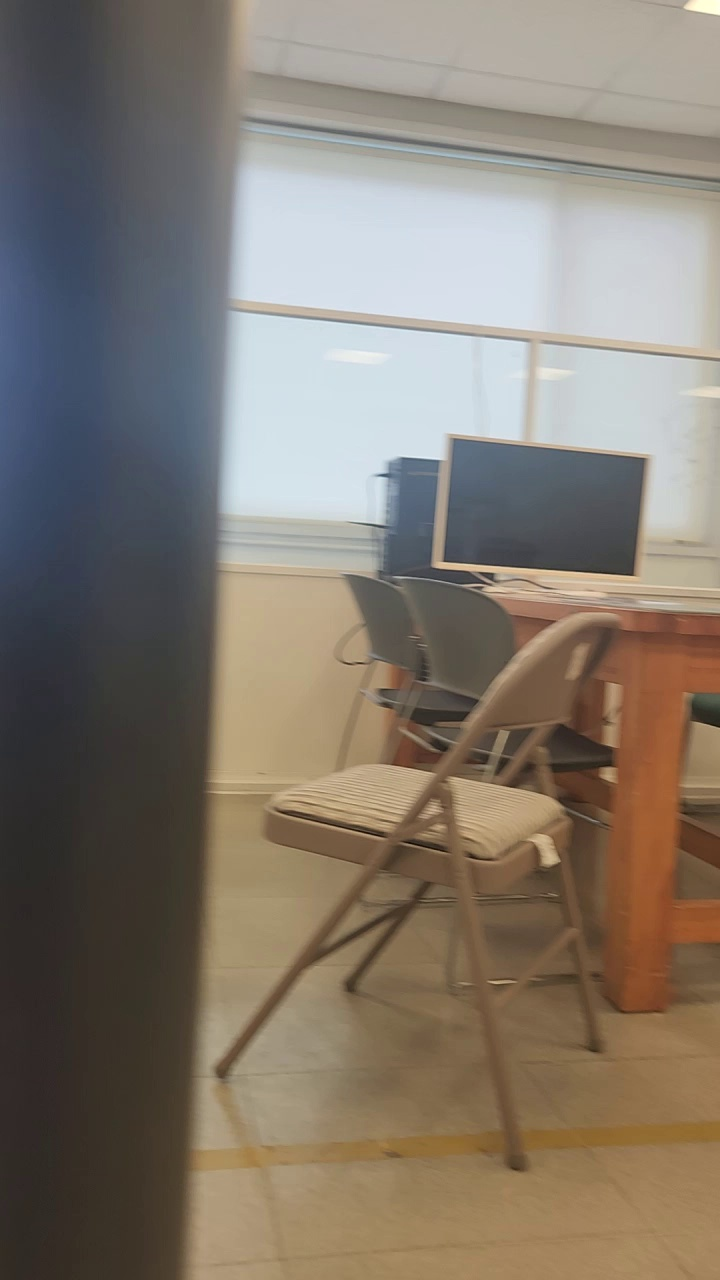pole: (0, 0, 237, 1279)
